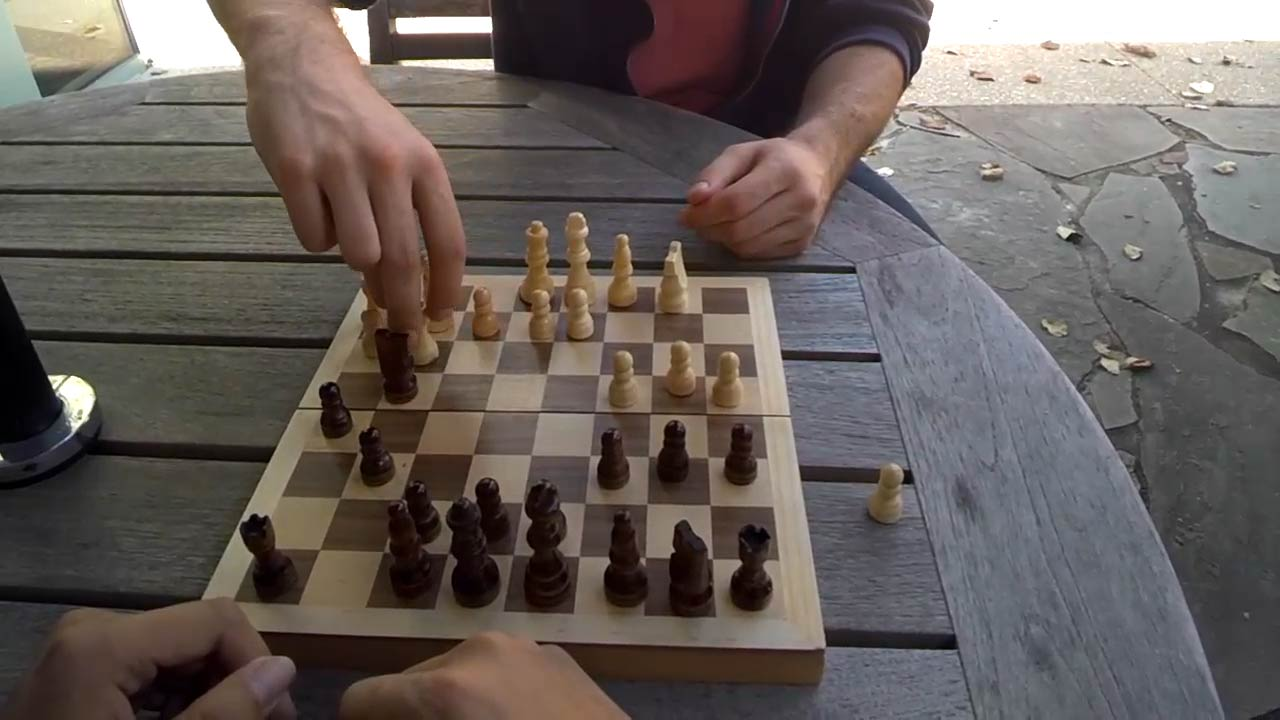hand: (244, 26, 463, 340), (1, 608, 299, 717), (344, 638, 628, 716), (678, 142, 828, 261)
